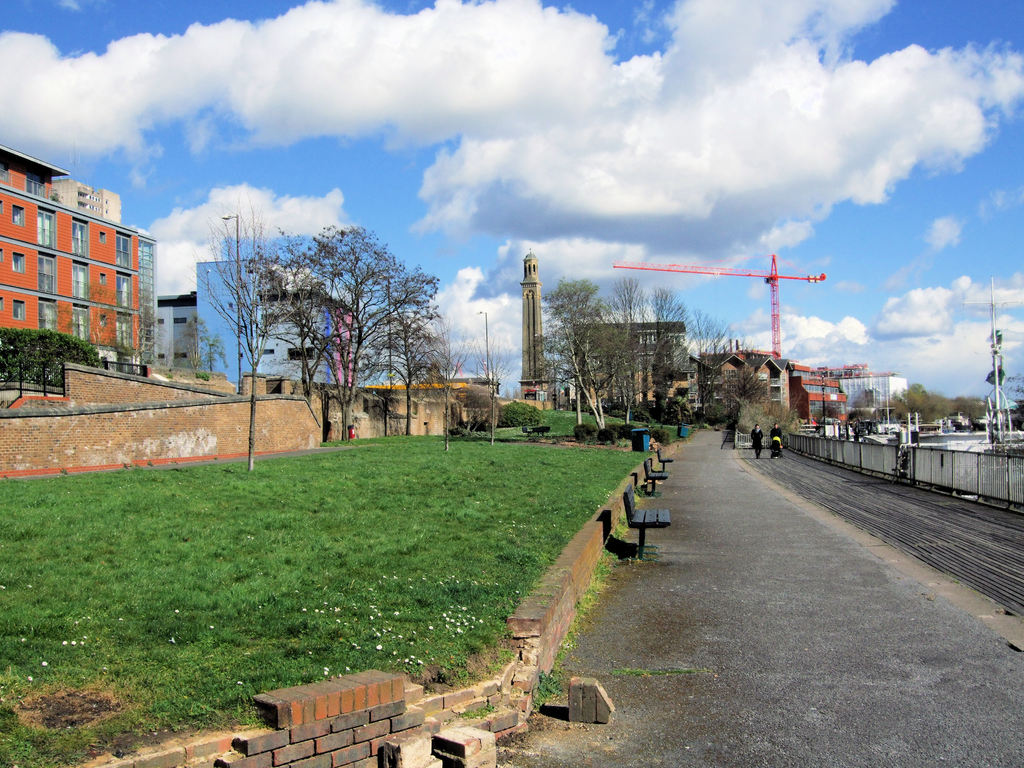Tree: (243, 218, 512, 446), (524, 275, 777, 434), (181, 190, 305, 471), (851, 377, 986, 430), (186, 313, 230, 375)
